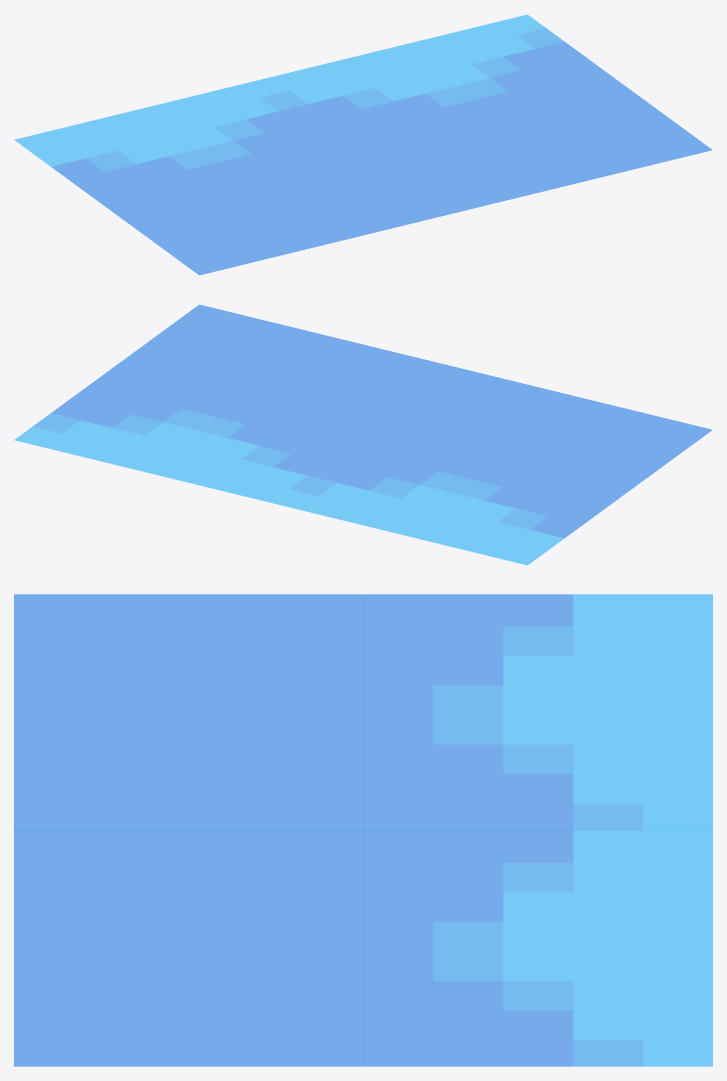
3 renders of one model, top to bottom at view 1: azimuth 30°, elevation 25°; view 2: azimuth 150°, elevation 25°; view 3: azimuth 270°, elevation 25°, orthographic. The views are drawn at different scales.
Bounding box in the file's own units: 1 × 0 × 0.625.
1 material, 1 textured.
